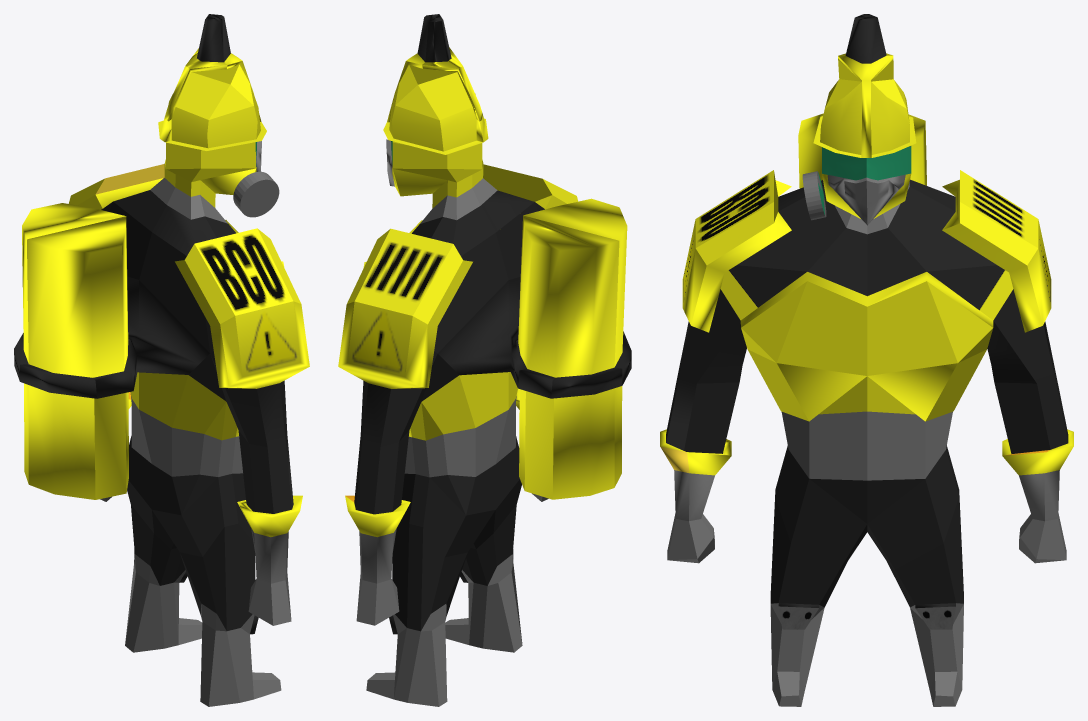
File: Main_Character (1).fbx
3 views of the same model, side by side, from view 1: azimuth 30°, elevation 25°; view 2: azimuth 150°, elevation 25°; view 3: azimuth 270°, elevation 25° (orthographic). The views are drawn at different scales.
Parts seen in each view (by area): view 1: Cube.002; view 2: Cube.002; view 3: Cube.002.
Part boxes in pixels (x1=…): Cube.002: x1=14, y1=14, x2=309, y2=706; Cube.002: x1=338, y1=14, x2=631, y2=706; Cube.002: x1=660, y1=14, x2=1073, y2=706.
Size of the model in its own units: 701 by 1798 by 996.
